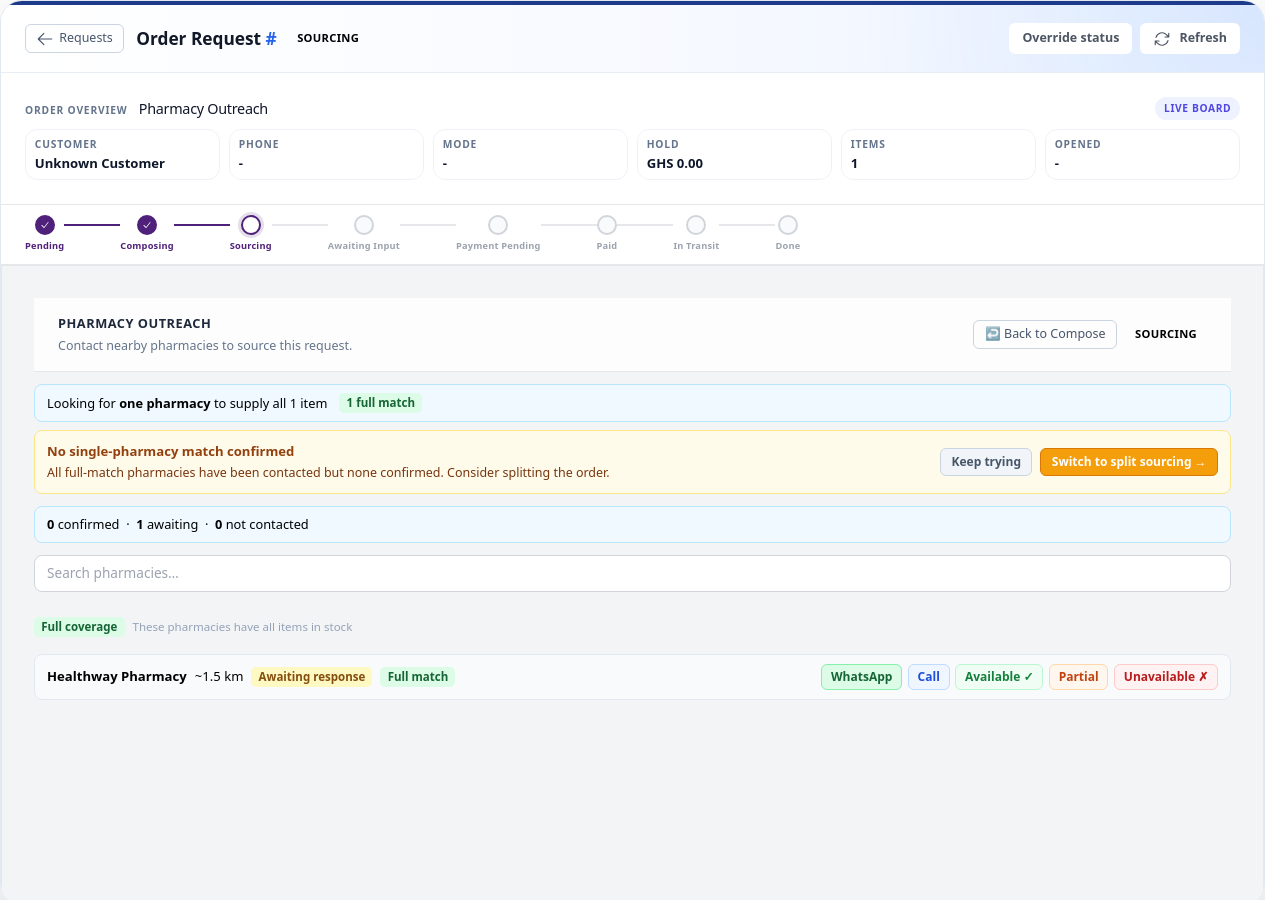
Test: outreach board: a pharmacy that cannot help › shows the reason and leaves the row alone when it fails
Click the button "Unavailable ✗" at (1166, 677), box [1114,664,1218,690]
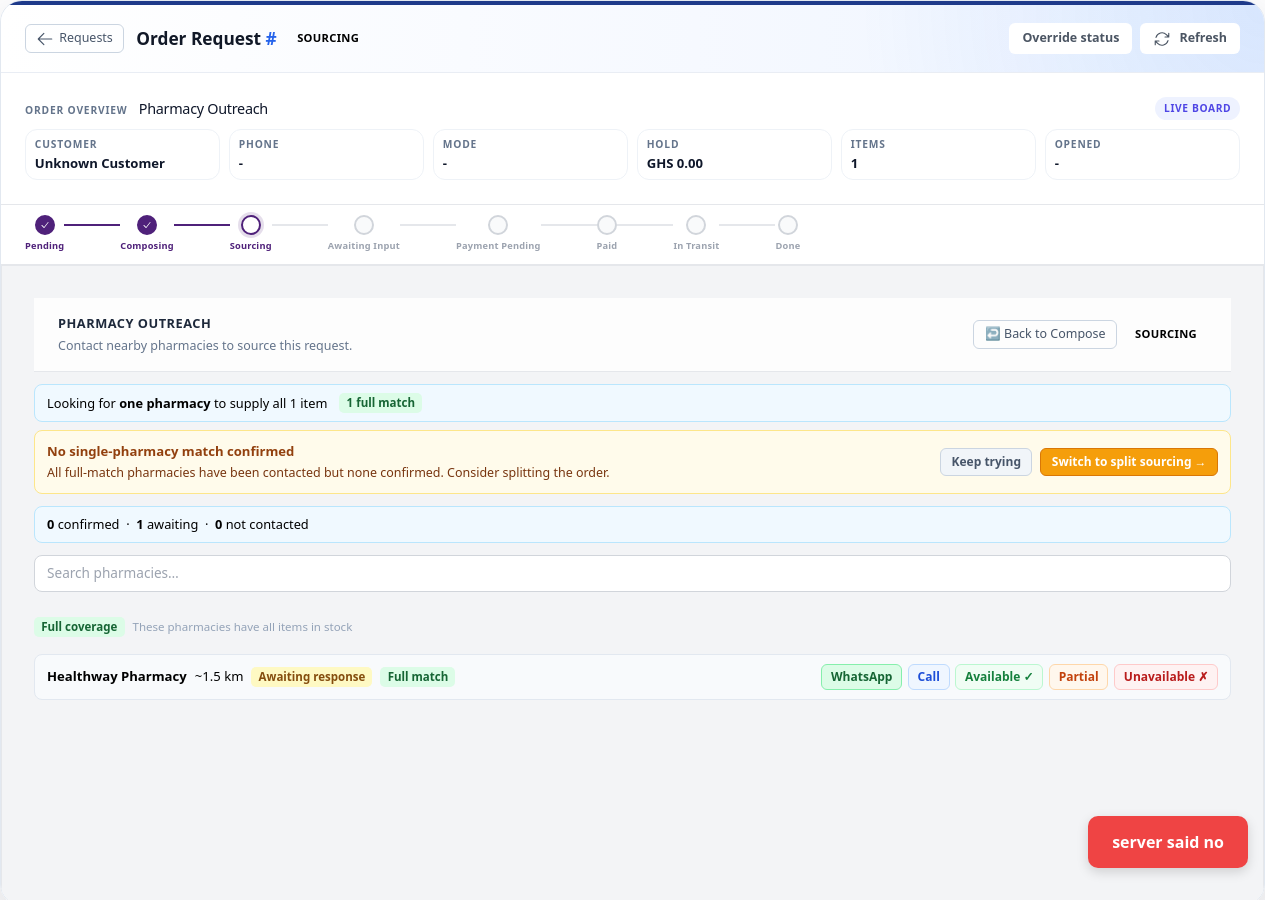
Expected: the text with class "outreach-queue-chip" reads "Awaiting response", [259,669,365,684]
Expected: the text "server said no" is shown, [1088,816,1248,868]
